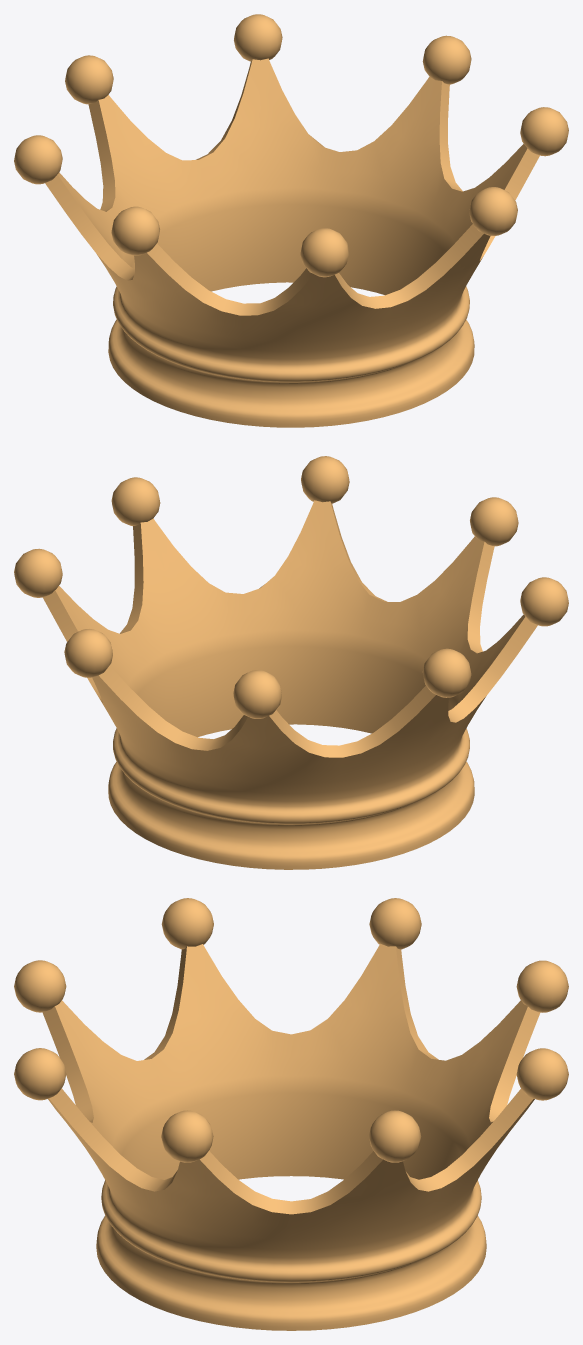
Rendered from Pickup_Objects.fbx.
3 views of the same model, one above another, from view 1: azimuth 30°, elevation 25°; view 2: azimuth 150°, elevation 25°; view 3: azimuth 270°, elevation 25° (orthographic). The views are drawn at different scales.
Visible parts, largest first — view 1: Crown; view 2: Crown; view 3: Crown.
Boxes of the visible parts, <box> form: Crown: <box>14,14,568,427</box>; Crown: <box>14,456,568,869</box>; Crown: <box>14,898,568,1330</box>.
Bounding box in the file's own units: 76.26 × 36.66 × 76.26.
